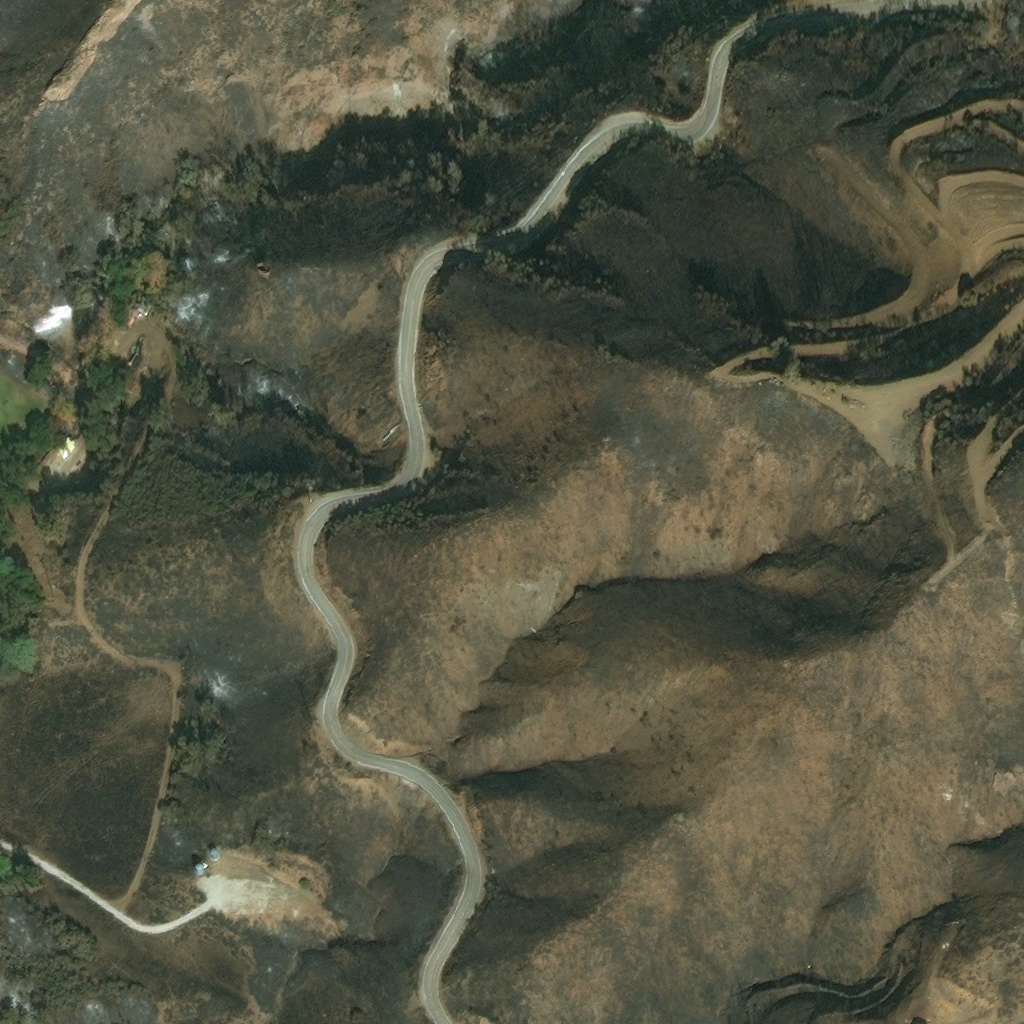0 no-damage: (44, 452, 64, 470)
4 un-classified: (124, 337, 140, 353)
